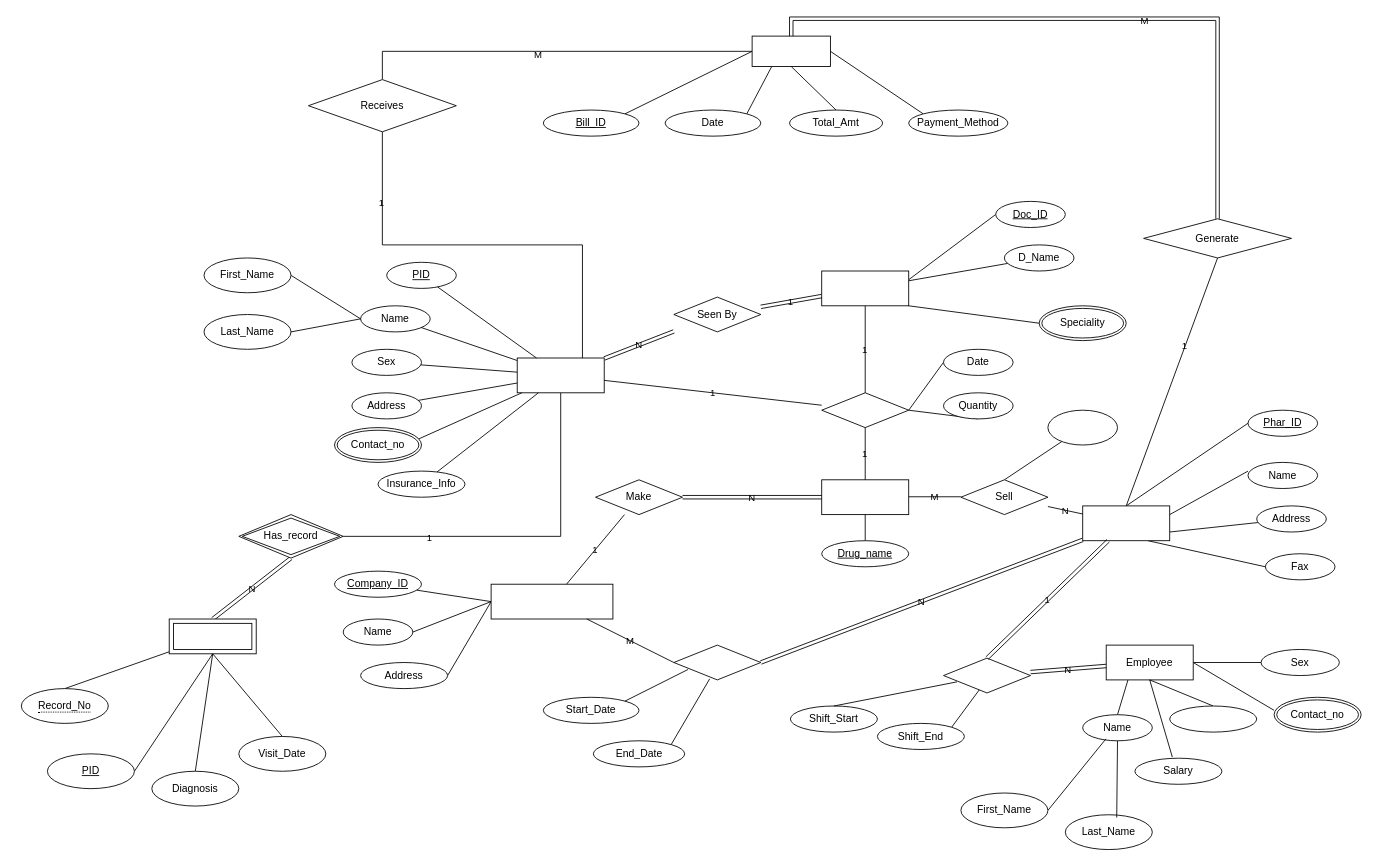
Image size: 1376x865. Some labels were removed from this diagram. The shapes that lost their labels are listed below. From the top down, each one's centre as x and y in pixels, then its label:
At point 790,51: "Bill".
At point 865,288: "Doctor".
At point 560,375: "Patient".
At point 865,410: "Prescribe".
At point 1082,427: "Price".
At point 865,497: "Drug".
At point 1126,523: "Pharmacy".
At point 551,601: "Drug_Manufacturer".
At point 212,636: "Medical_record".
At point 717,662: "Contract".
At point 987,675: "Work".
At point 1213,718: "Employee_ID".
